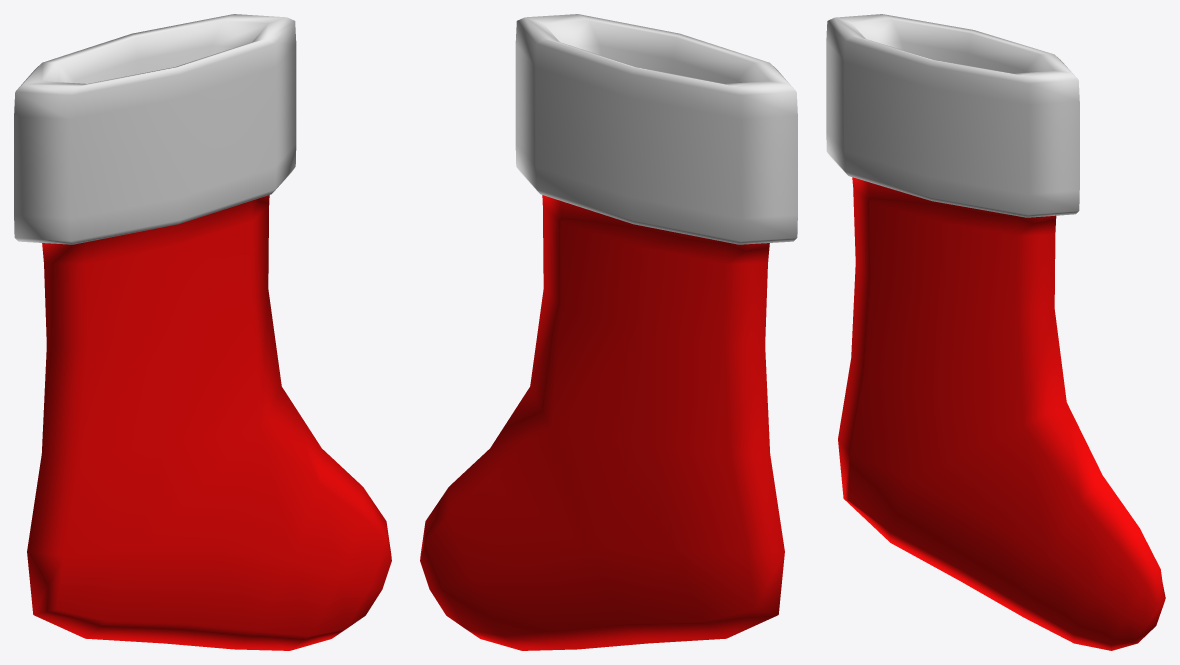
The model's file is stocking.glb.
The picture shows the model from 3 angles, left to right: view 1: azimuth 30°, elevation 25°; view 2: azimuth 150°, elevation 25°; view 3: azimuth 330°, elevation 25°; orthographic projection. The views are drawn at different scales.
Parts seen in each view (by area): view 1: stocking; view 2: stocking; view 3: stocking.
Boxes of the visible parts, left/top/right/bottom form: stocking: left=14, top=14, right=391, bottom=650; stocking: left=420, top=14, right=797, bottom=650; stocking: left=826, top=14, right=1165, bottom=650.
Size of the model in its own units: 0.2216 by 0.3562 by 0.0509.
